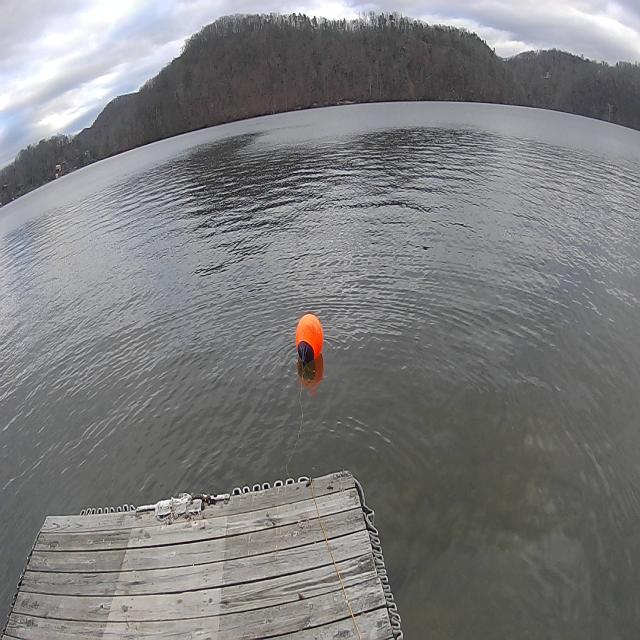Buoy: (292, 309, 328, 371)
